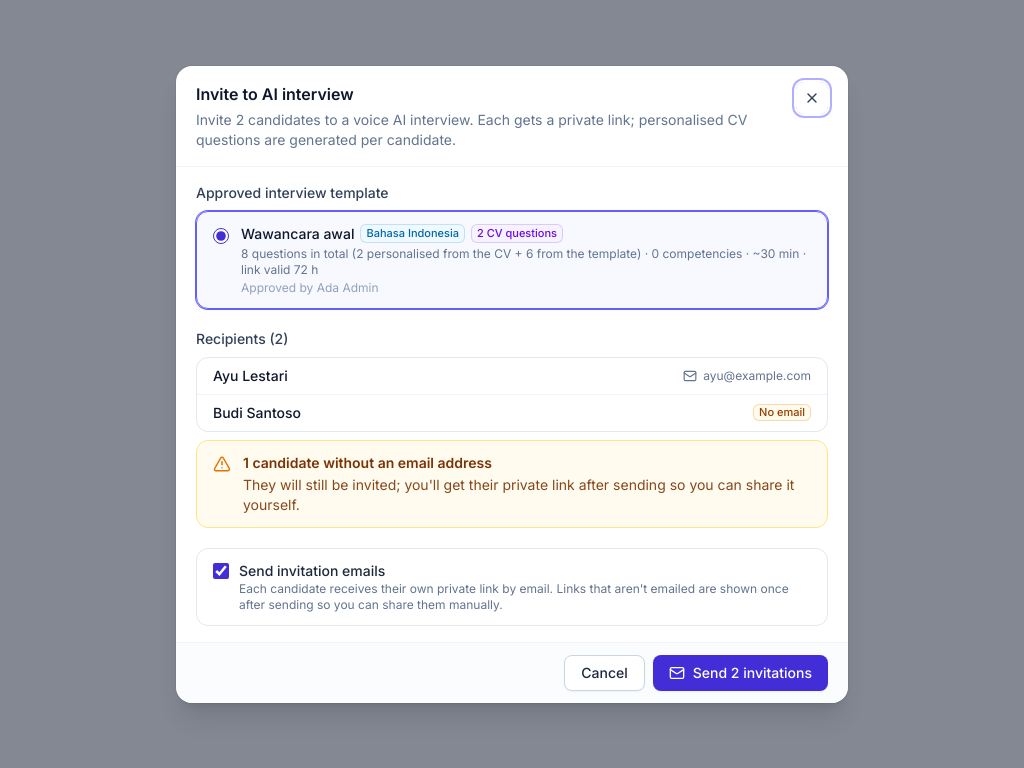
BulkInviteDialog › shows email status per candidate and hides links that were emailed
The image size is (1024, 768).
Click the button "Send 2 invitations" at coordinates (740, 672), box left=653, top=654, right=828, bottom=690
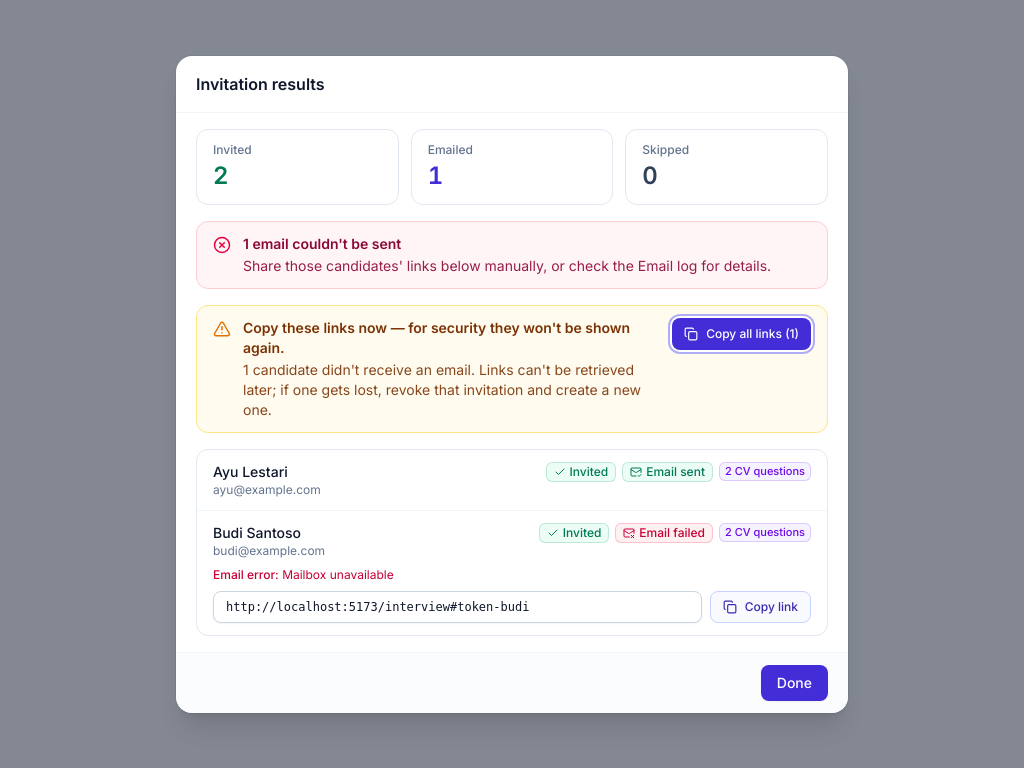
Now the text "Email sent" is shown, box left=622, top=462, right=713, bottom=482
Now the text "Email failed" is shown, box left=615, top=522, right=713, bottom=542
Now the text "Mailbox unavailable" is shown, box left=282, top=566, right=394, bottom=582
